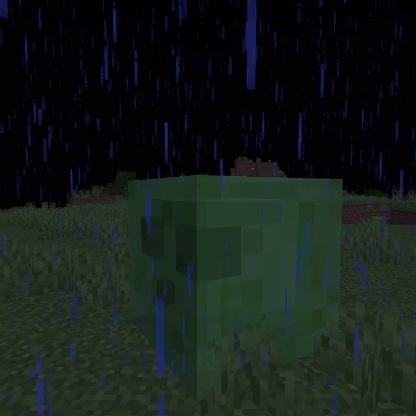slime: (121, 170, 350, 405)
